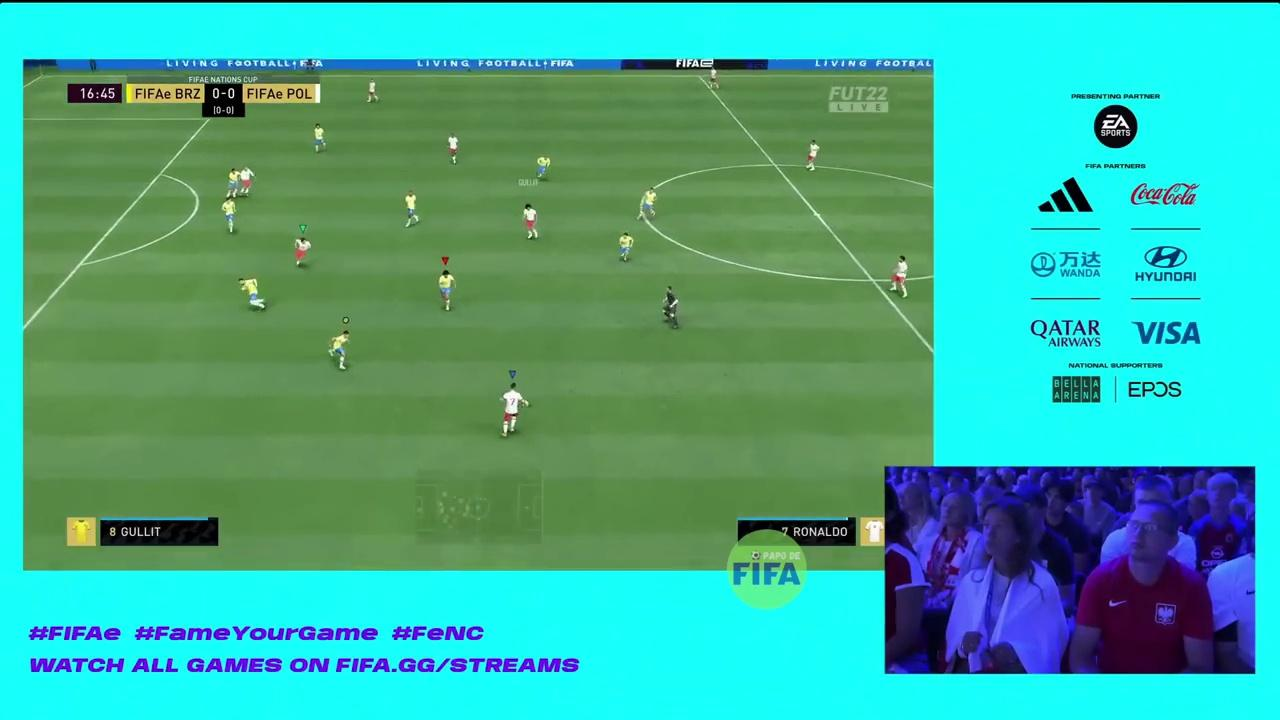scoreboard: (126, 80, 325, 106)
timestamp: (65, 82, 126, 104)
